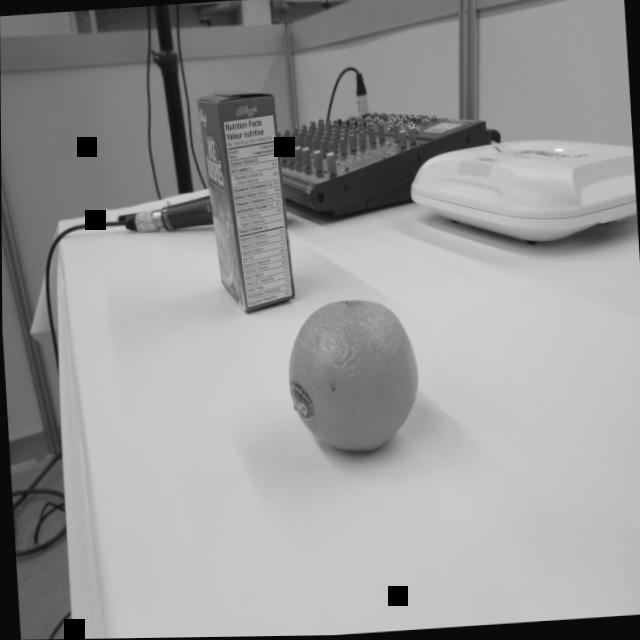cereal: (194, 85, 299, 321)
orange: (281, 292, 426, 463)
